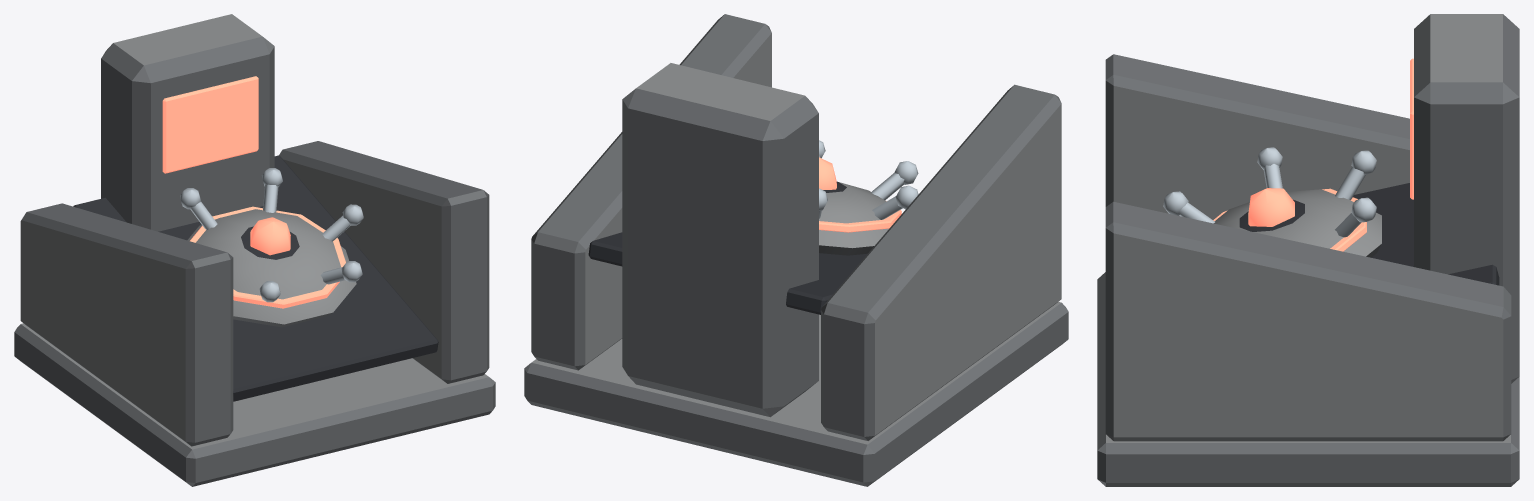
The model's file is R4X_ExplosiveTrapDeployer_LOD1.glb.
3 renders of one model, left to right at view 1: azimuth 30°, elevation 25°; view 2: azimuth 150°, elevation 25°; view 3: azimuth 270°, elevation 25°, orthographic. The views are drawn at different scales.
Visible parts, largest first — view 1: R4X_ExplosiveTrapDeployer_LOD1; view 2: R4X_ExplosiveTrapDeployer_LOD1; view 3: R4X_ExplosiveTrapDeployer_LOD1.
Part boxes in pixels (x1,y1,x2,y2): R4X_ExplosiveTrapDeployer_LOD1: (14,14,495,486); R4X_ExplosiveTrapDeployer_LOD1: (524,14,1068,486); R4X_ExplosiveTrapDeployer_LOD1: (1097,14,1519,486).
Bounding box in the file's own units: 0.52 × 0.48 × 0.52.
